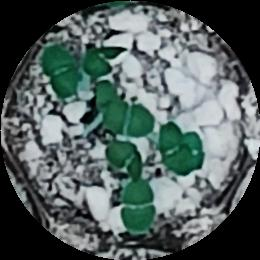Basil: (156, 119, 204, 180), (39, 45, 83, 98), (117, 184, 161, 236), (99, 102, 159, 136), (108, 138, 144, 182), (82, 45, 125, 78)
